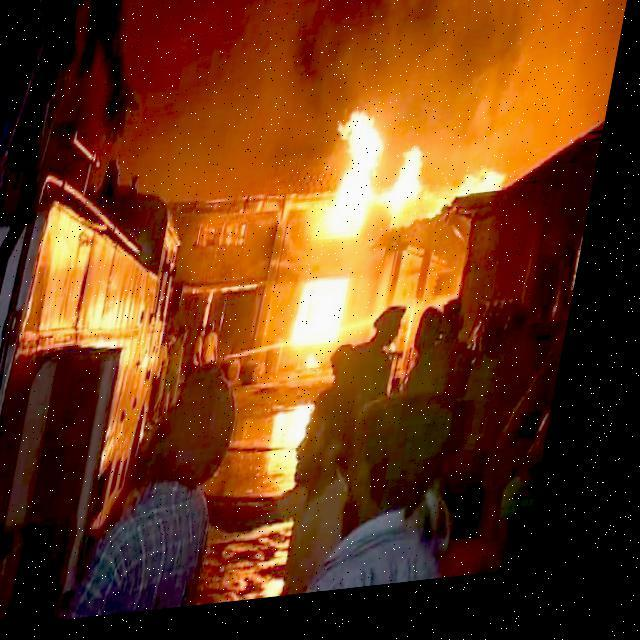Fire: (314, 104, 404, 264), (388, 140, 524, 238), (292, 277, 374, 374)
